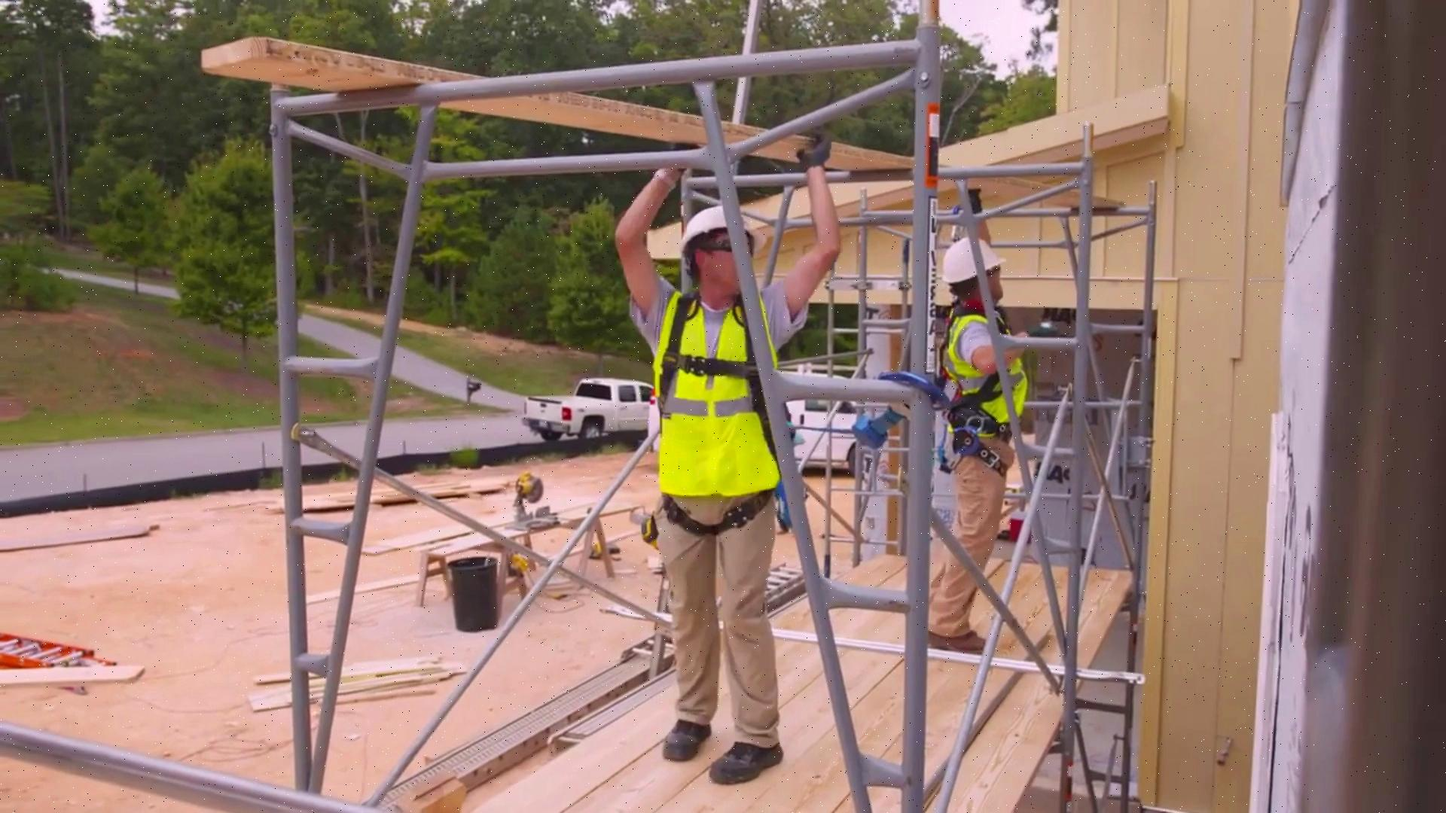Hard_hat: (936, 237, 1004, 284), (678, 204, 756, 242)
Vest: (647, 296, 786, 508), (932, 314, 1028, 438)
